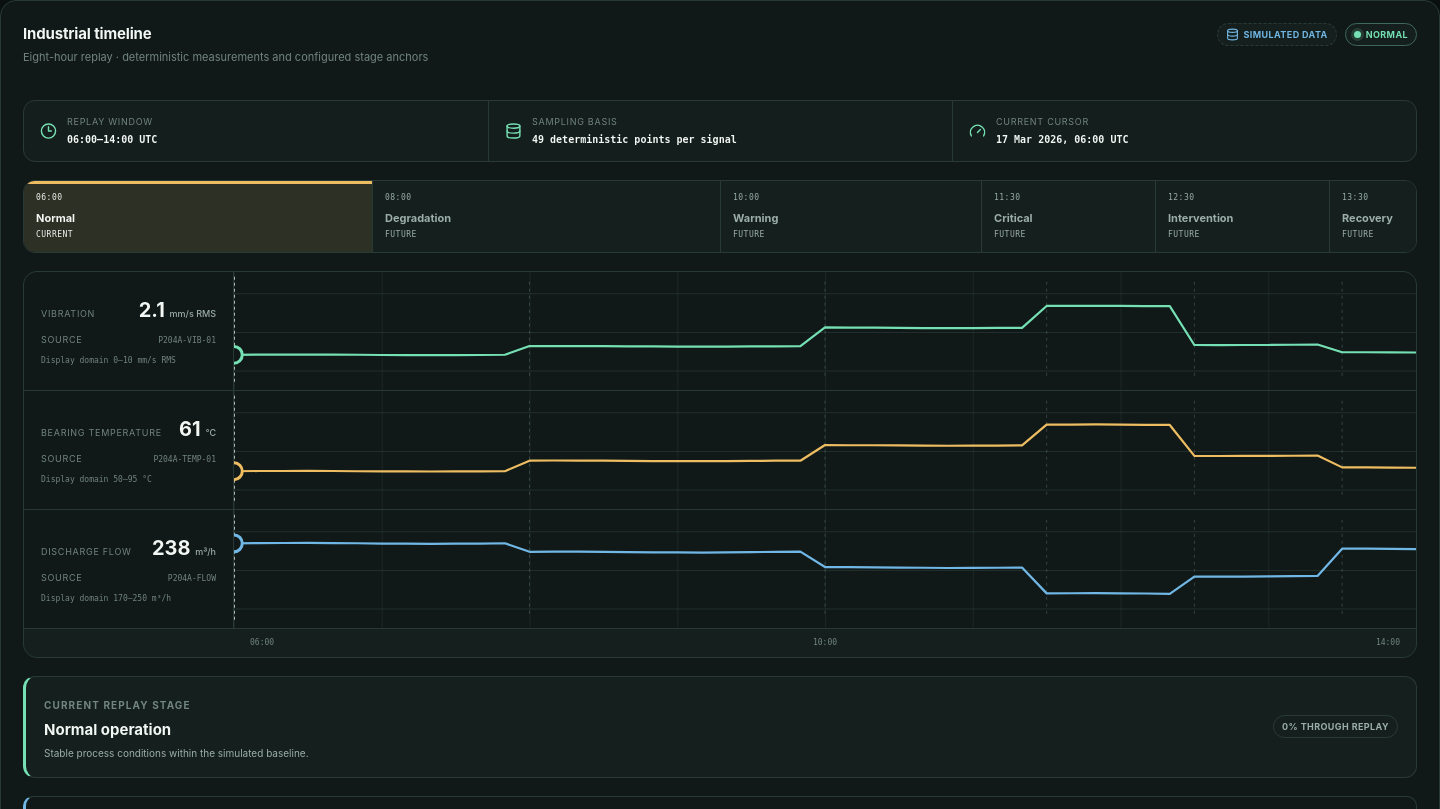
Test: Industrial Timeline states and interaction › uses the existing replay provider for stage navigation
Click the button with aria-label "Jump to Warning conditions at 10:00 UTC": click(756, 218) [721, 180, 981, 252]
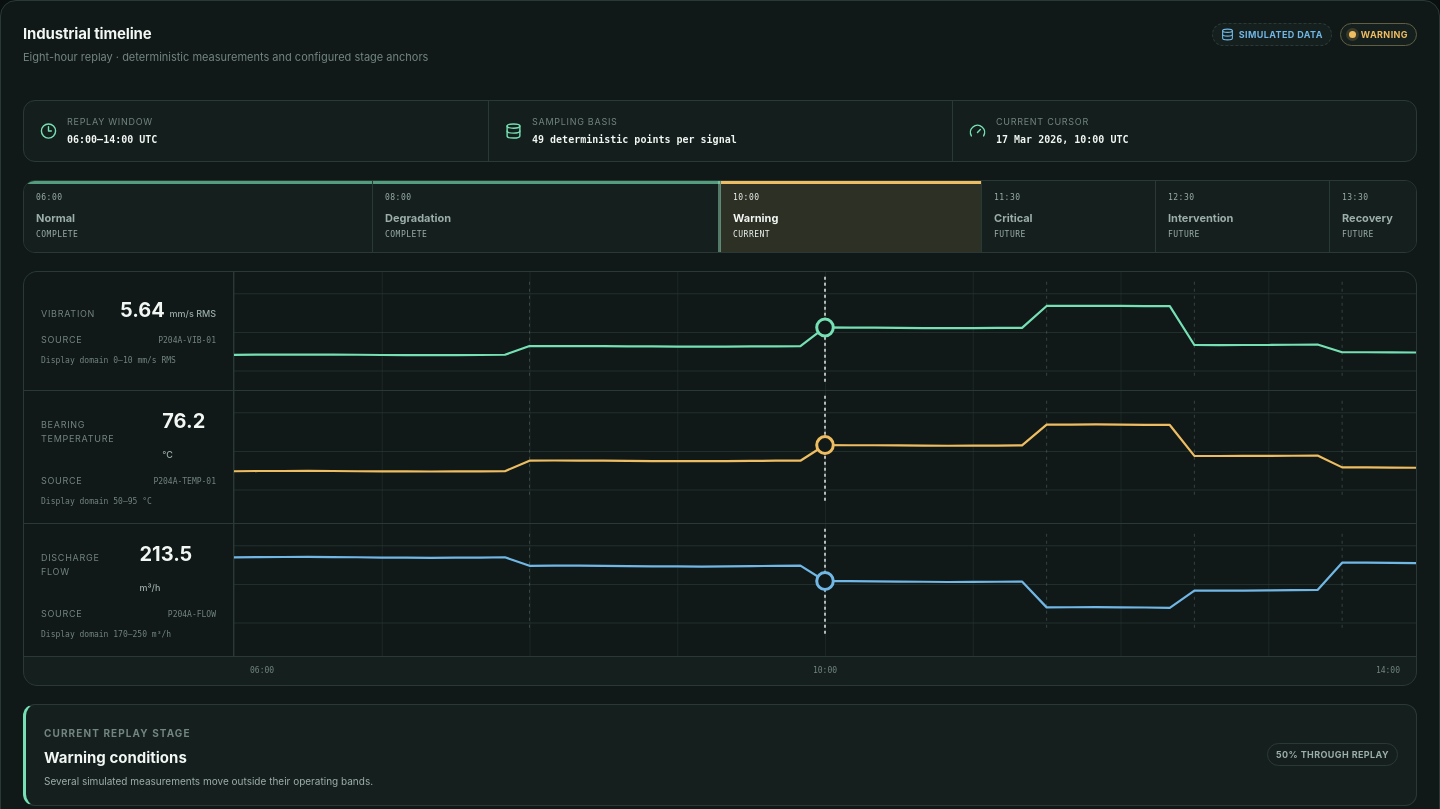
Expected: the text "50% through replay" is shown, [1267, 743, 1398, 766]
Expected: the text "Several simulated measurements move outside their operating bands." is shown, [44, 774, 373, 788]
